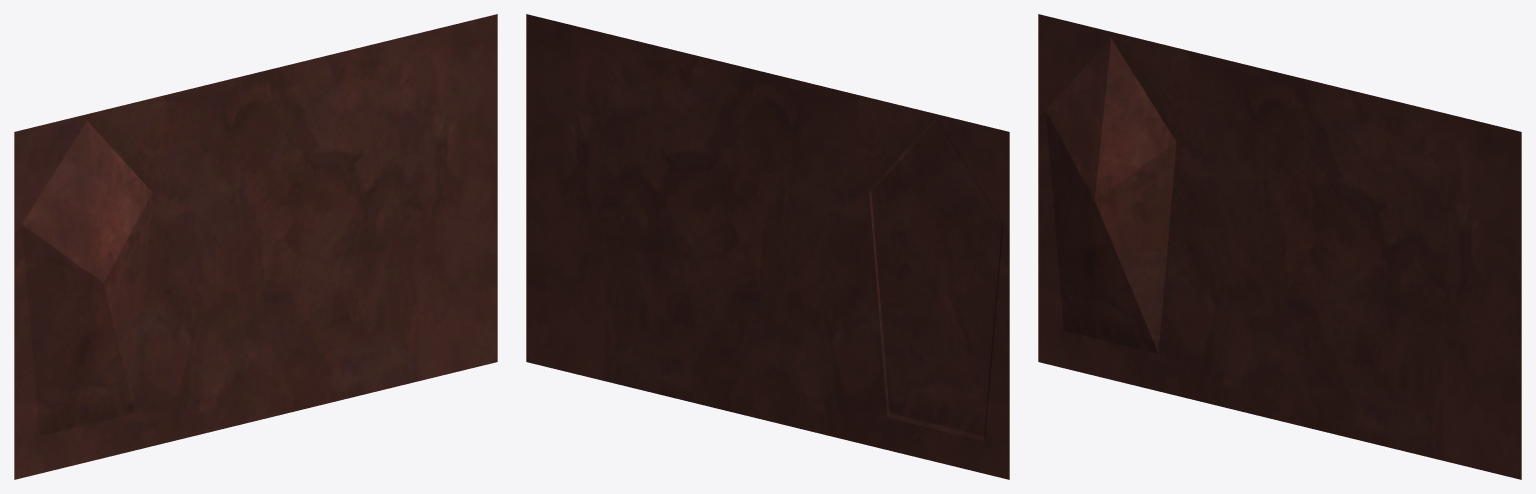
The model's file is lava_half_straight_02.fbx.
3 renders of one model, left to right at view 1: azimuth 30°, elevation 25°; view 2: azimuth 150°, elevation 25°; view 3: azimuth 330°, elevation 25°, orthographic.
Parts seen in each view (by area): view 1: obj1.017; view 2: obj1.017; view 3: obj1.017.
Boxes of the visible parts, x1,y1,x2,y2 form: obj1.017: (14,14,497,479); obj1.017: (526,14,1009,479); obj1.017: (1038,14,1521,479).
Bounding box in the file's own units: 4 × 2.75 × 0.2424.
